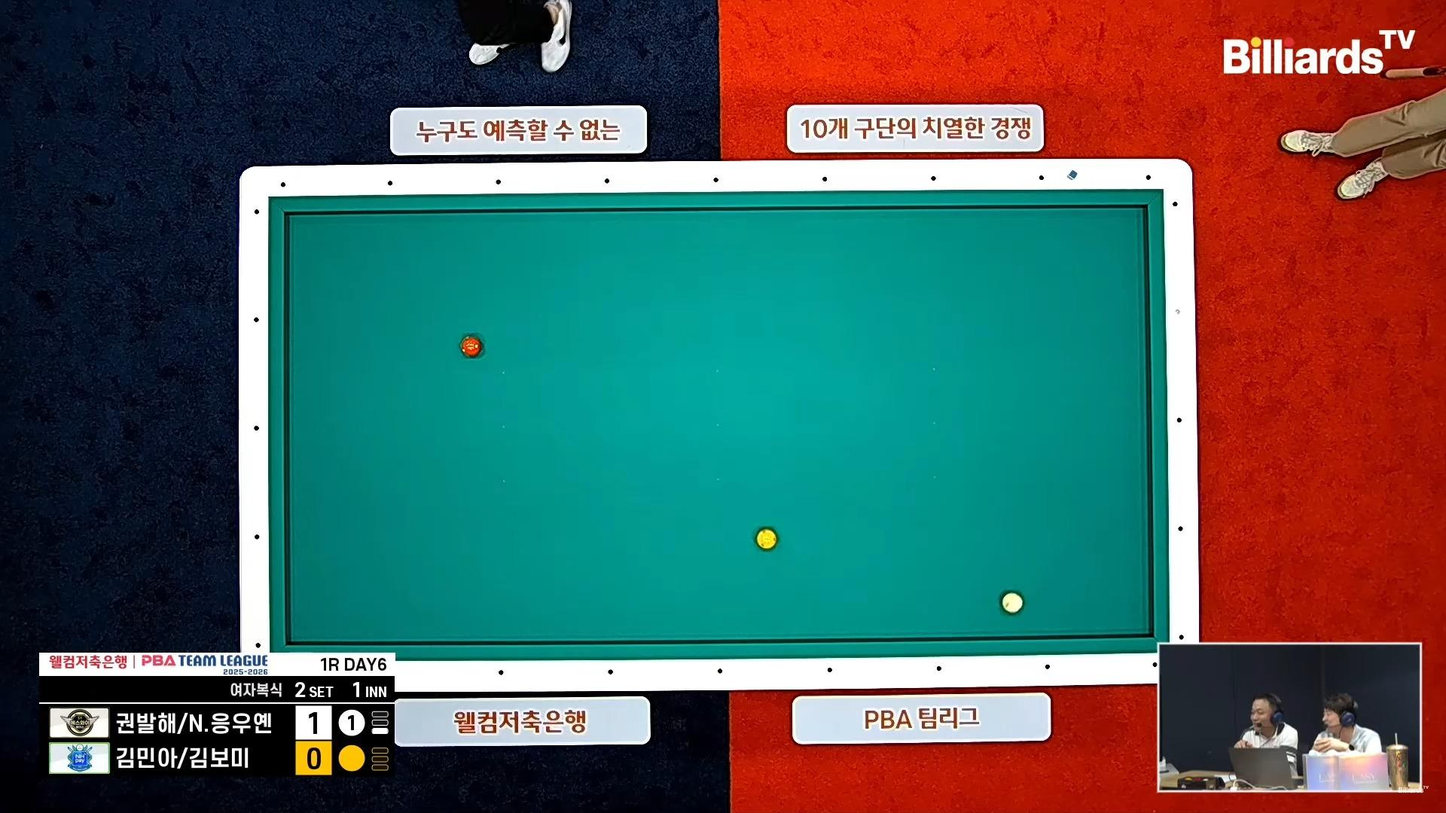billiard-ball-Red: (459, 332, 483, 359)
billiard-ball-Yellow: (752, 522, 779, 552)
billiard-ball-white: (1000, 587, 1029, 615)
